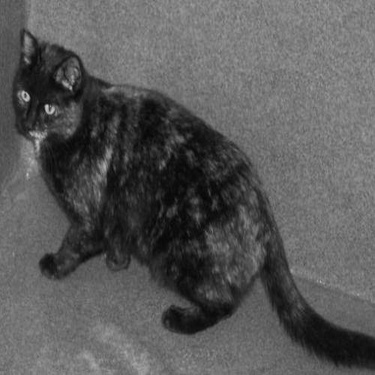cat: (12, 29, 373, 372)
